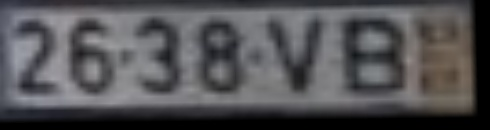2: (13, 17, 67, 102)
3: (129, 15, 192, 103)
6: (67, 16, 124, 102)
8: (193, 19, 254, 99)
B: (343, 15, 418, 100)
V: (260, 15, 335, 101)
